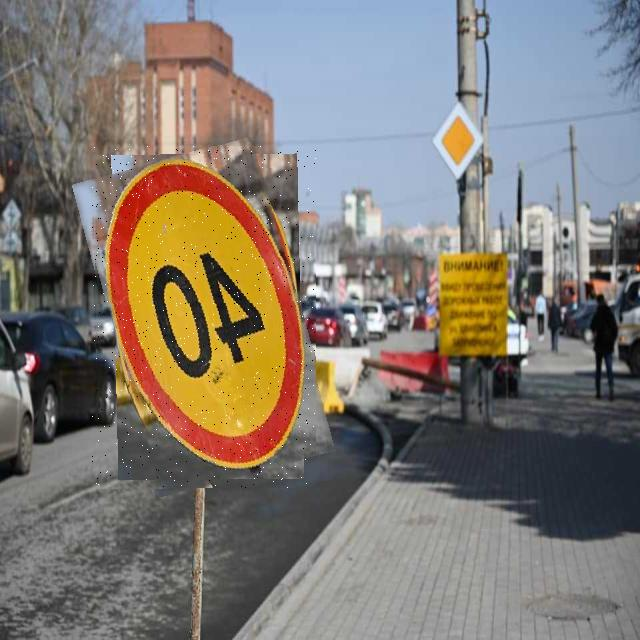speed limit 40: (92, 146, 316, 489)
